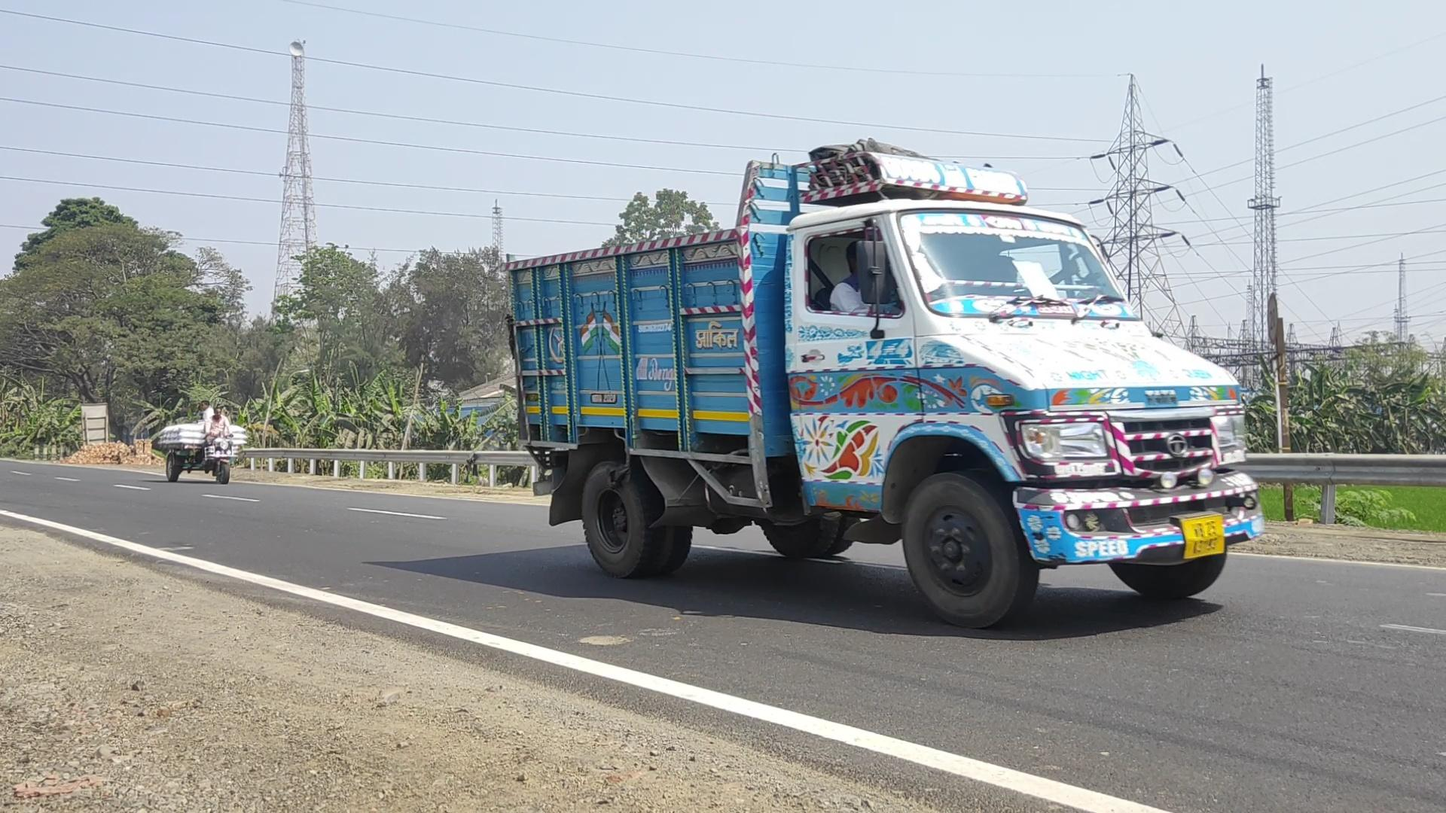truck: (506, 140, 1261, 625)
